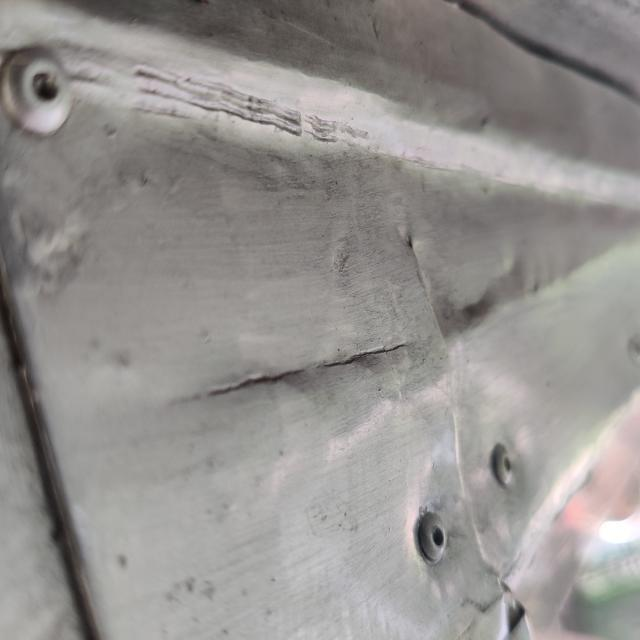Scratch: (169, 331, 427, 427)
